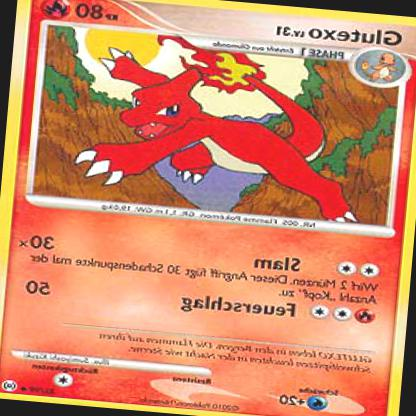Charmeleon: (74, 41, 352, 213)
